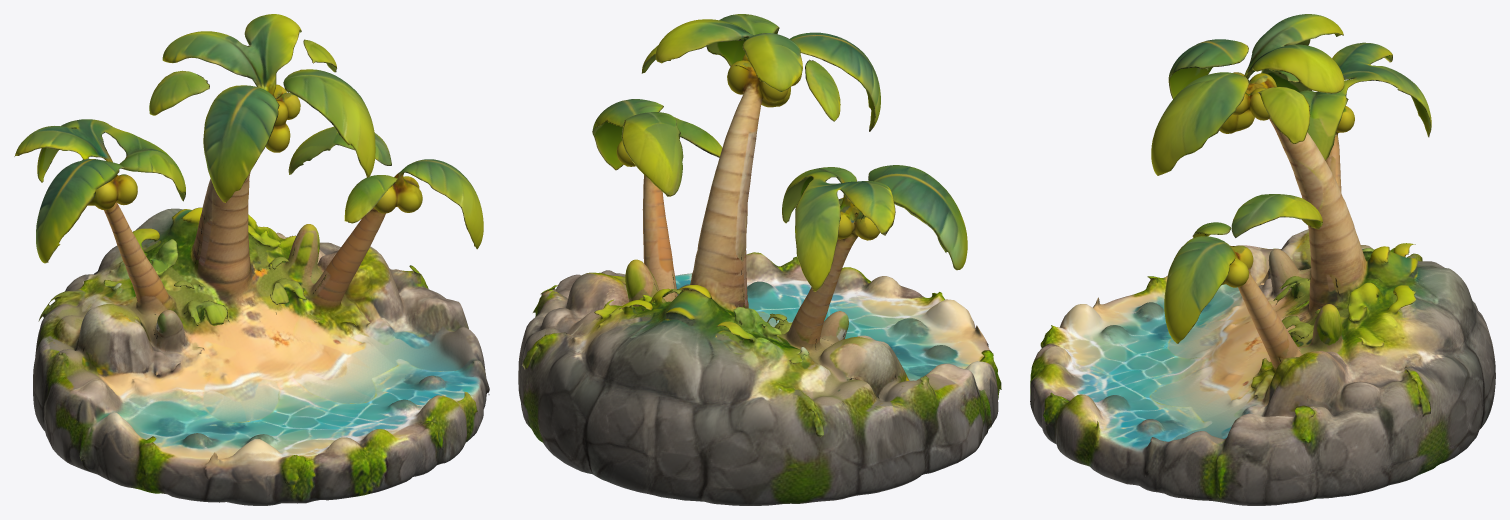
Rendered from coconut-island.glb.
3 renders of one model, left to right at view 1: azimuth 30°, elevation 25°; view 2: azimuth 150°, elevation 25°; view 3: azimuth 270°, elevation 25°, orthographic. The views are drawn at different scales.
Parts seen in each view (by area): view 1: model; view 2: model; view 3: model.
Part boxes in pixels (bbox=[...]): model: bbox=[14, 14, 489, 505]; model: bbox=[518, 14, 1001, 505]; model: bbox=[1030, 14, 1495, 505].
Size of the model in its own units: 1.88 by 1.62 by 1.82.
Materials: 1 (1 with a texture image).
